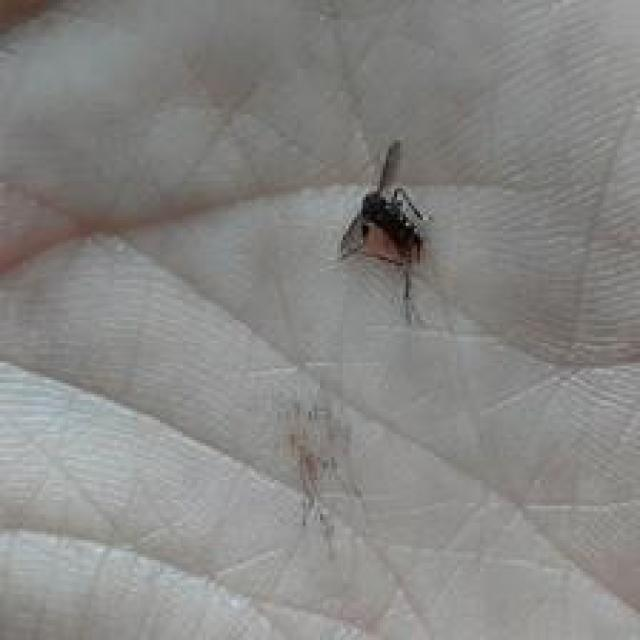Aedes albopictus: (336, 137, 436, 326)
